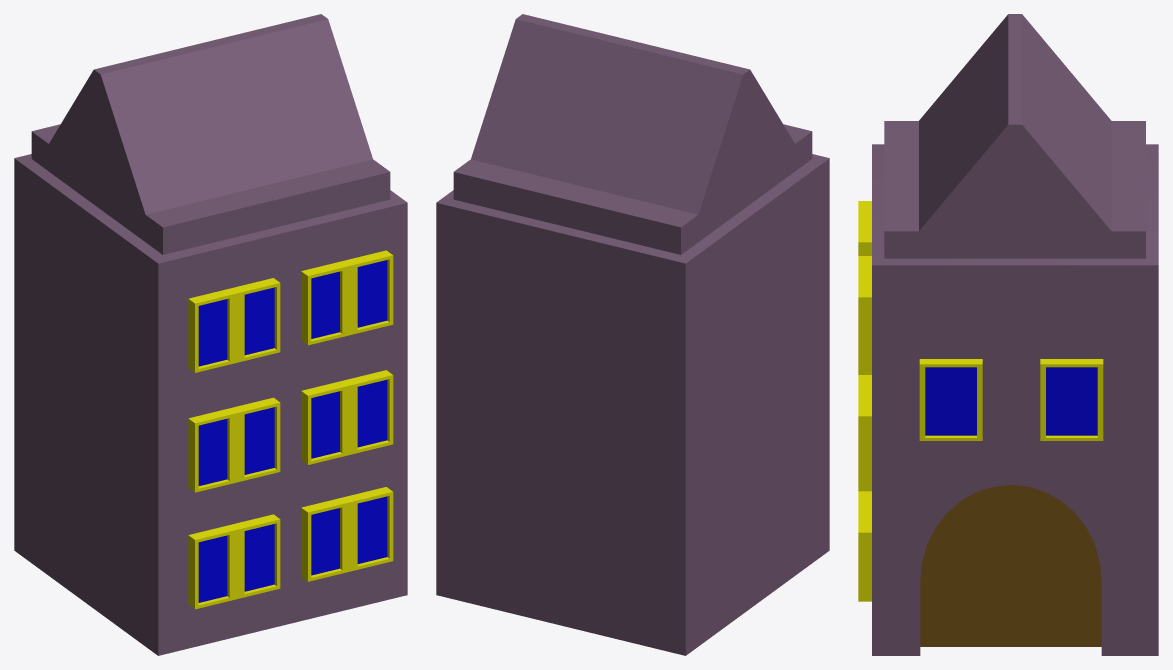
The picture shows the model from 3 angles, left to right: view 1: azimuth 30°, elevation 25°; view 2: azimuth 150°, elevation 25°; view 3: azimuth 270°, elevation 25°; orthographic projection.
Visible parts, largest first — view 1: polySurface19, polySurface20, polySurface9, pCube31, pCube29, pCube27, pCube30, pCube32, pCube28; view 2: polySurface19, polySurface20, polySurface9; view 3: polySurface19, polySurface20, polySurface9, polySurface21, polySurface22, pCube29, pCube31, pCube27, pCube32.
Part boxes in pixels (left/top/right/bottom): polySurface19: left=14, top=290, right=407, bottom=655; polySurface20: left=31, top=14, right=390, bottom=254; polySurface9: left=14, top=154, right=407, bottom=394; pCube31: left=301, top=250, right=393, bottom=345; pCube29: left=301, top=370, right=393, bottom=464; pCube27: left=301, top=487, right=393, bottom=581; pCube30: left=188, top=397, right=280, bottom=492; pCube32: left=188, top=278, right=280, bottom=372; pCube28: left=188, top=514, right=280, bottom=609; polySurface19: left=436, top=290, right=829, bottom=655; polySurface20: left=453, top=14, right=812, bottom=254; polySurface9: left=436, top=154, right=829, bottom=394; polySurface19: left=872, top=396, right=1158, bottom=655; polySurface20: left=884, top=14, right=1145, bottom=258; polySurface9: left=872, top=144, right=1158, bottom=395; polySurface21: left=919, top=359, right=982, bottom=440; polySurface22: left=1040, top=359, right=1103, bottom=440; pCube29: left=858, top=375, right=871, bottom=485; pCube31: left=858, top=256, right=871, bottom=366; pCube27: left=858, top=491, right=871, bottom=601; pCube32: left=858, top=201, right=871, bottom=255.
Size of the model in its own units: 1710 by 3319 by 1717.
